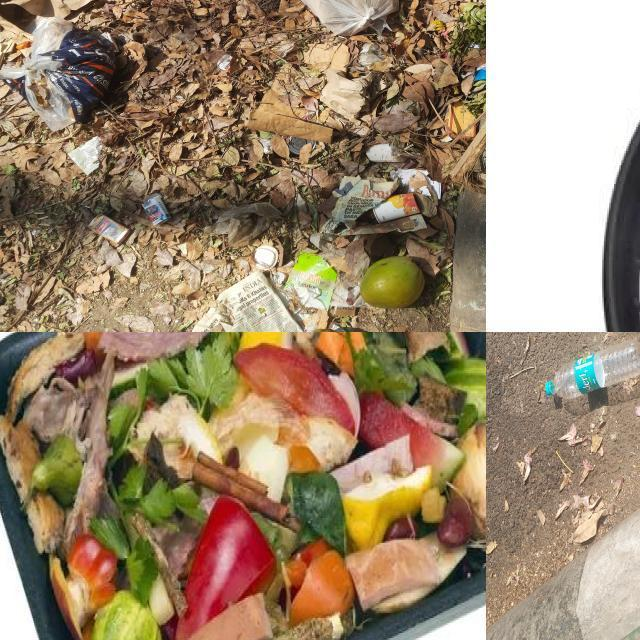Background: (486, 332, 640, 640)
Garbage: (0, 332, 486, 640)
Plastic_bottle: (545, 339, 640, 400)
